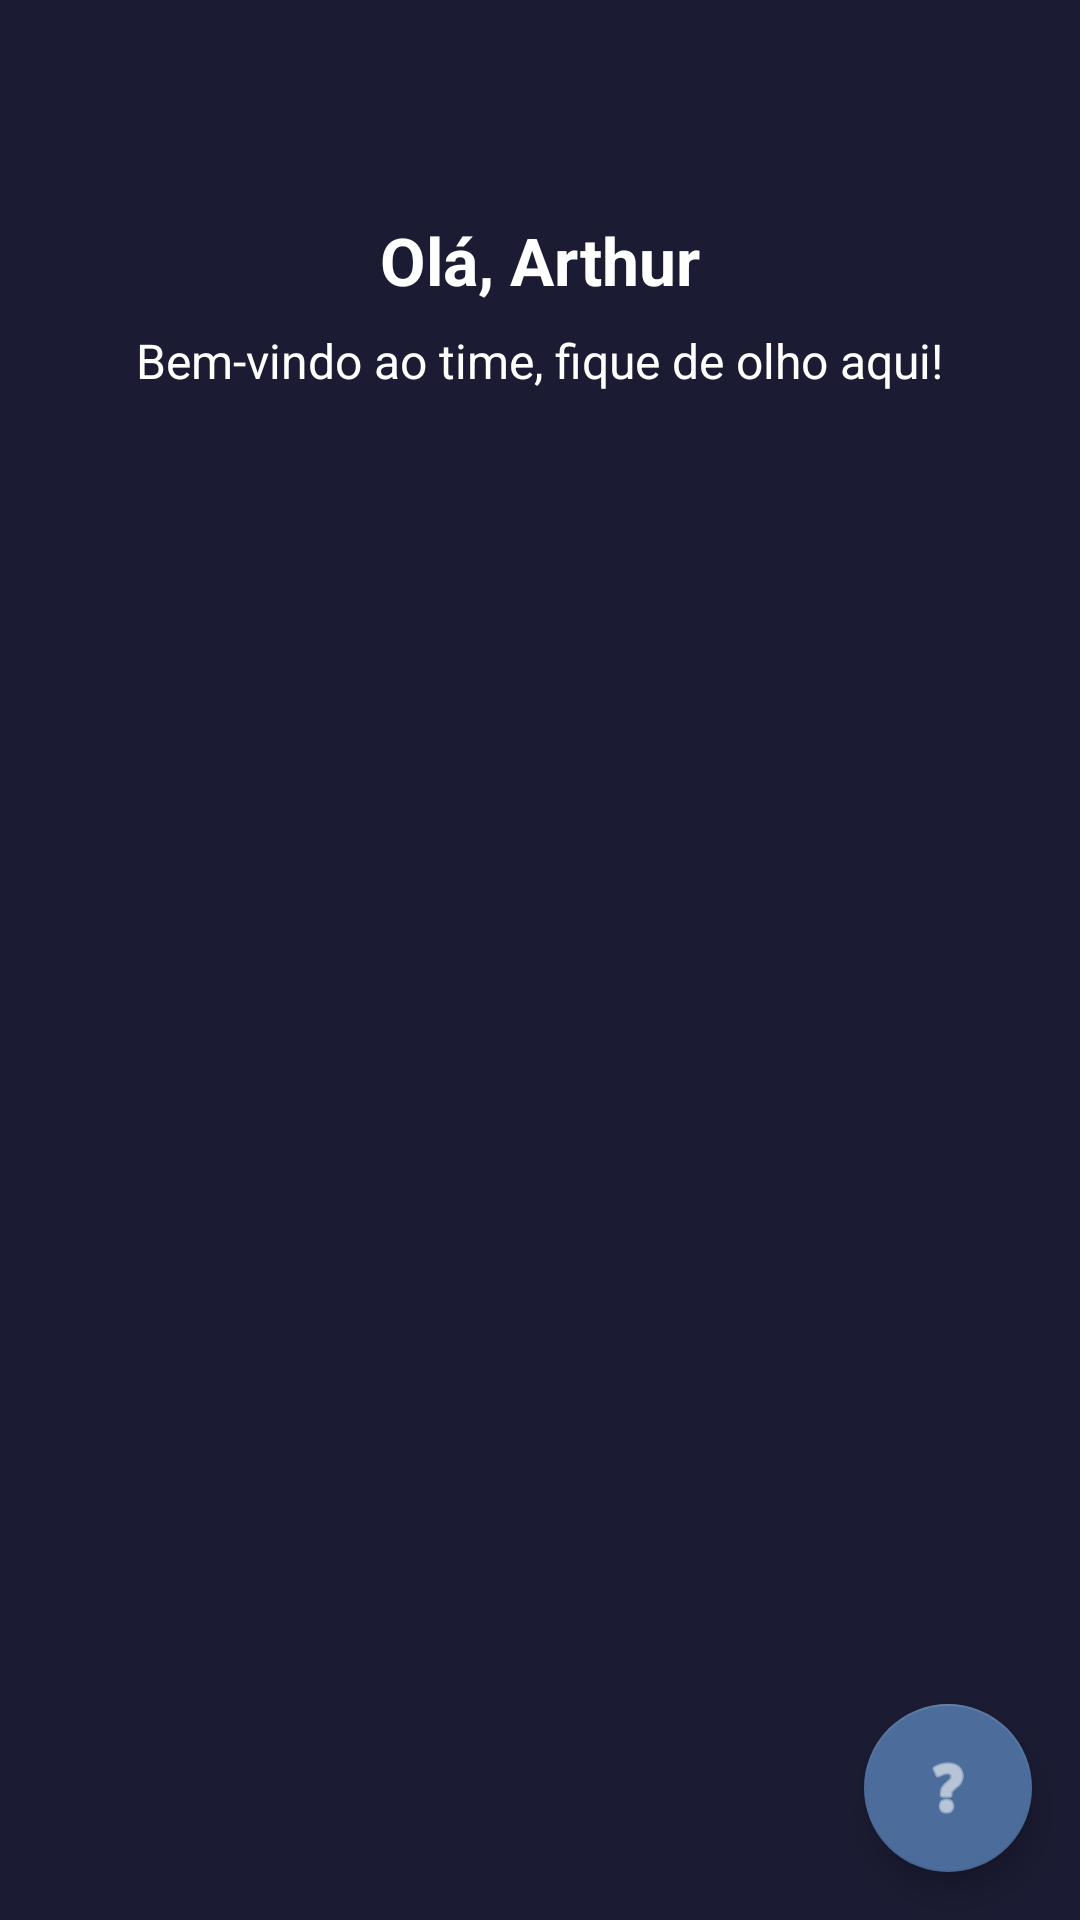

Named icons in this screenshot (1080×1920) and their centers, (x=x, y=y):
Ver Dicas: (x=948, y=1788)
